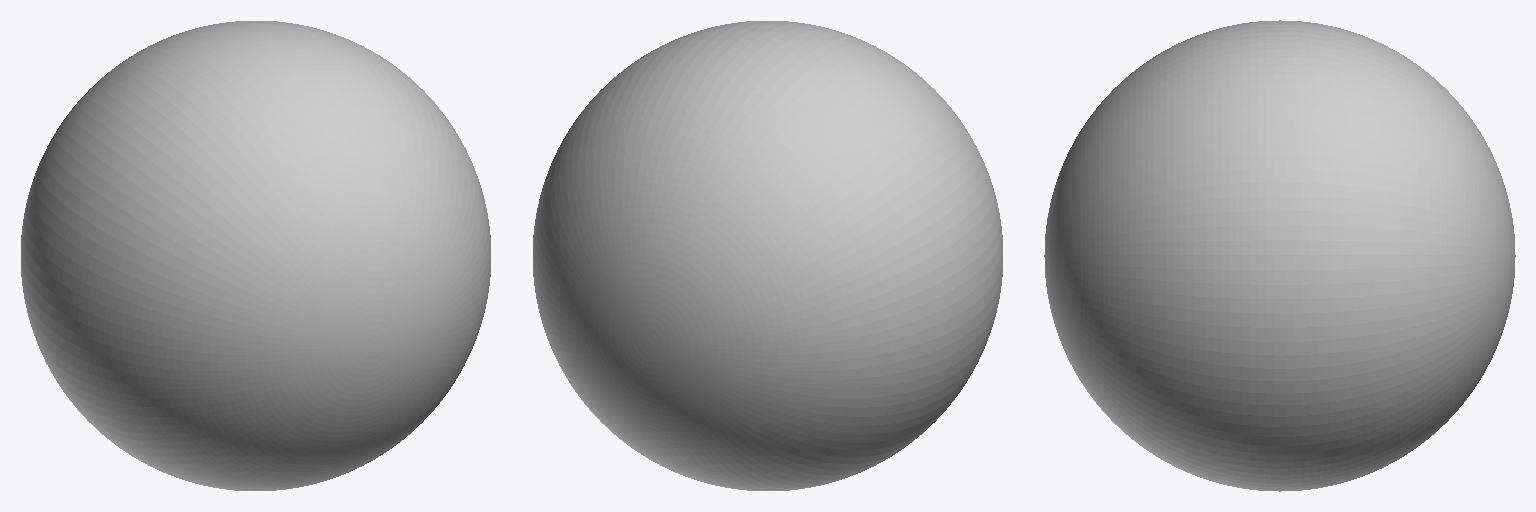
The model's file is Sun.obj.
The picture shows the model from 3 angles: view 1: azimuth 30°, elevation 25°; view 2: azimuth 150°, elevation 25°; view 3: azimuth 270°, elevation 25°; orthographic projection.
Parts seen in each view (by area): view 1: node_id30; view 2: node_id30; view 3: node_id30.
Part boxes in pixels (left/top/right/bottom): node_id30: left=21, top=21, right=490, bottom=490; node_id30: left=533, top=21, right=1002, bottom=490; node_id30: left=1044, top=20, right=1515, bottom=491.
Size of the model in its own units: 0.3736 by 0.3736 by 0.3736.